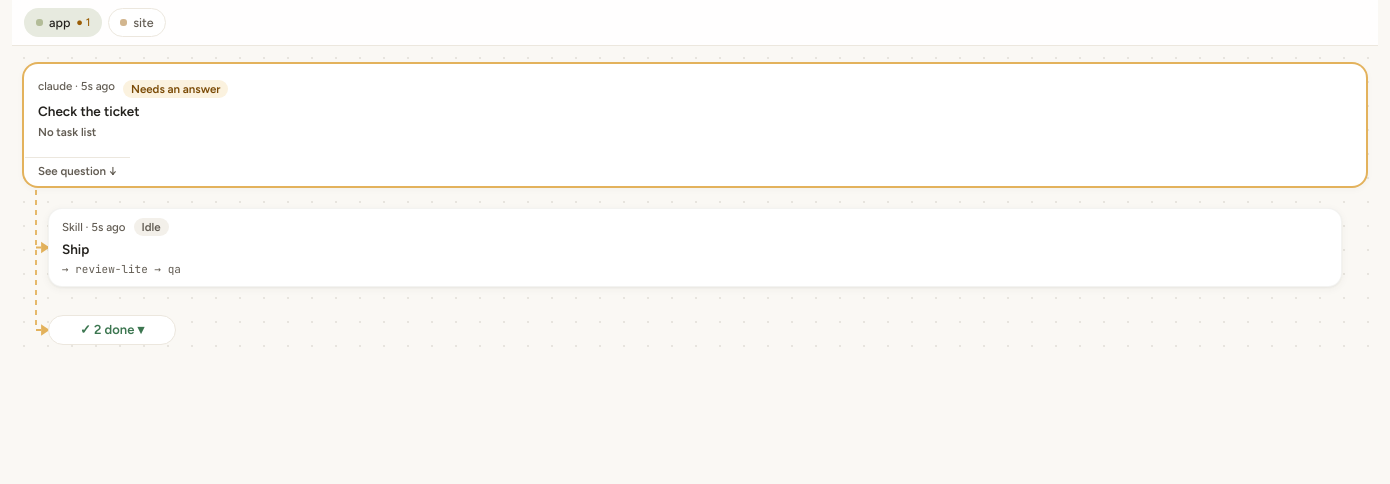
it: phone map › finished children fold into a pill that opens and closes; a workflow counts its agents
Check: the text "Verify suite" is not shown
Click the button "✓ 2 done ▾" at {"x": 112, "y": 330}, box [48,315,176,345]
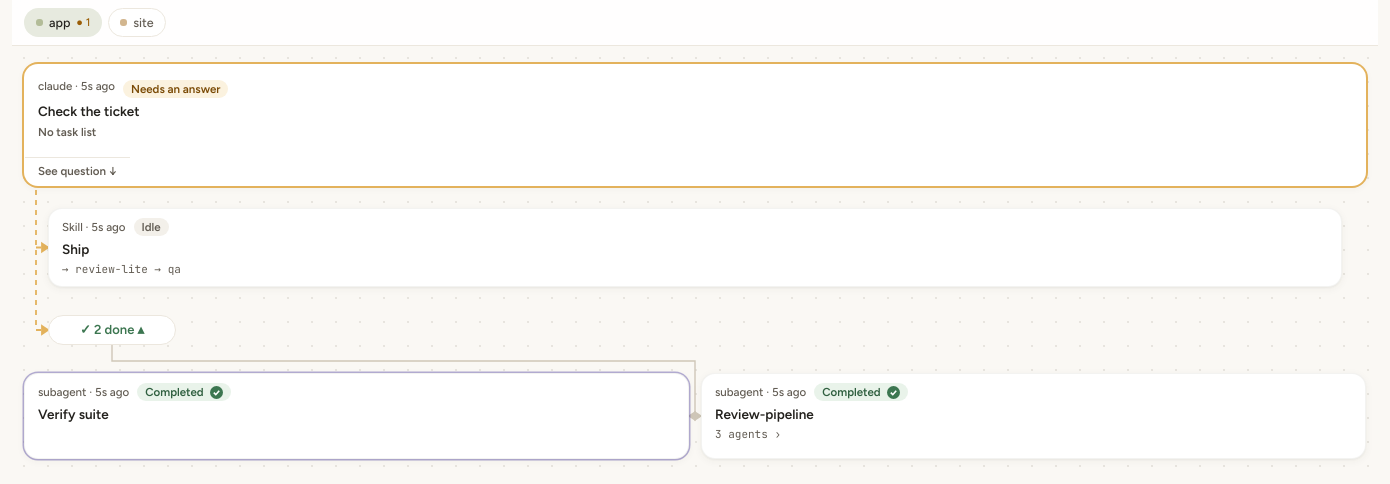
Check: the heading "Verify suite" is shown, box [38,406,109,423]
Check: the text "3 agents ›" is shown, box [715,427,781,441]
Click the button "✓ 2 done ▴" at {"x": 112, "y": 330}, box [48,315,176,345]
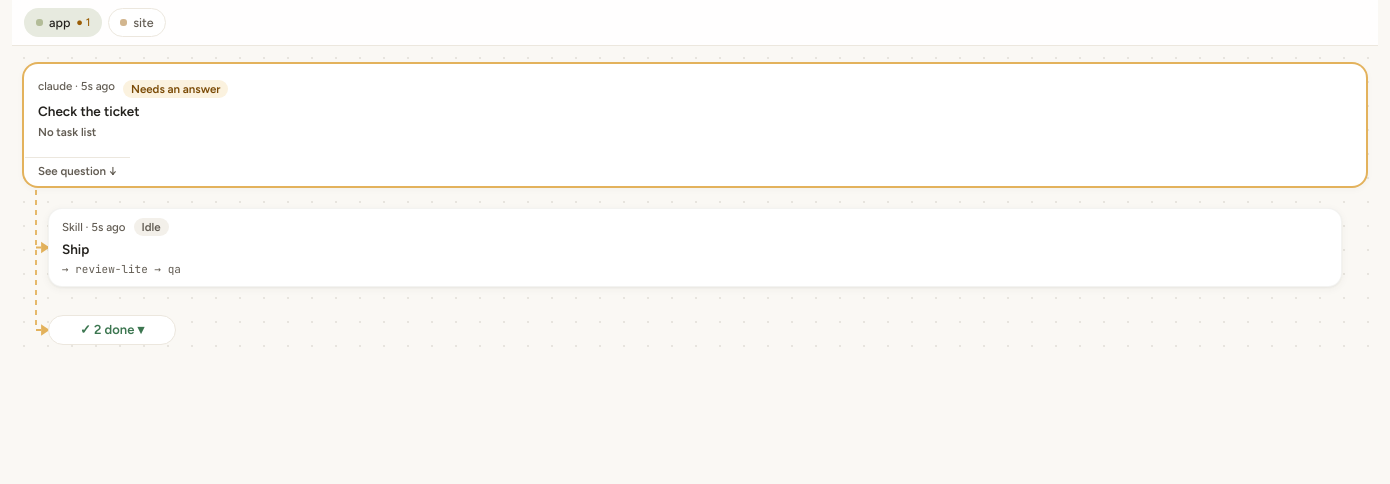
Check: the button "Verify suite" is gone
